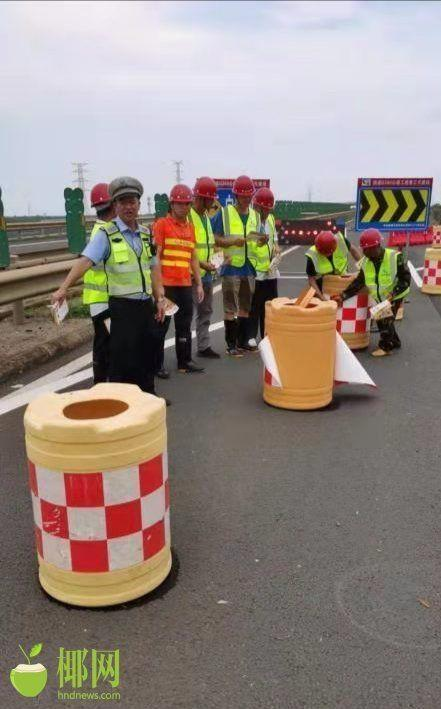cone_barrel: (23, 384, 167, 609), (258, 301, 336, 412), (338, 287, 369, 348), (420, 248, 438, 294)
